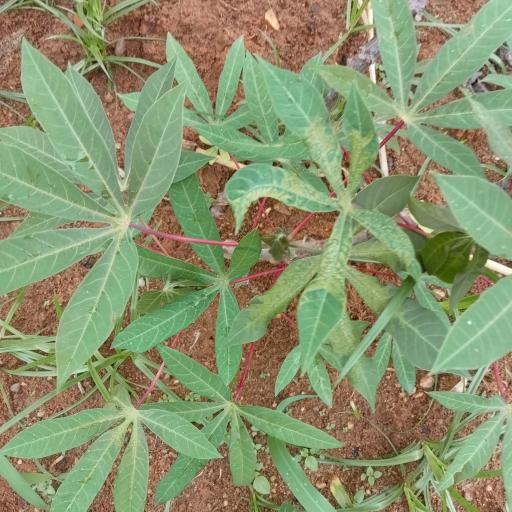Cassava_Mosaic: (0, 41, 192, 378), (227, 45, 427, 350), (3, 387, 215, 512)
